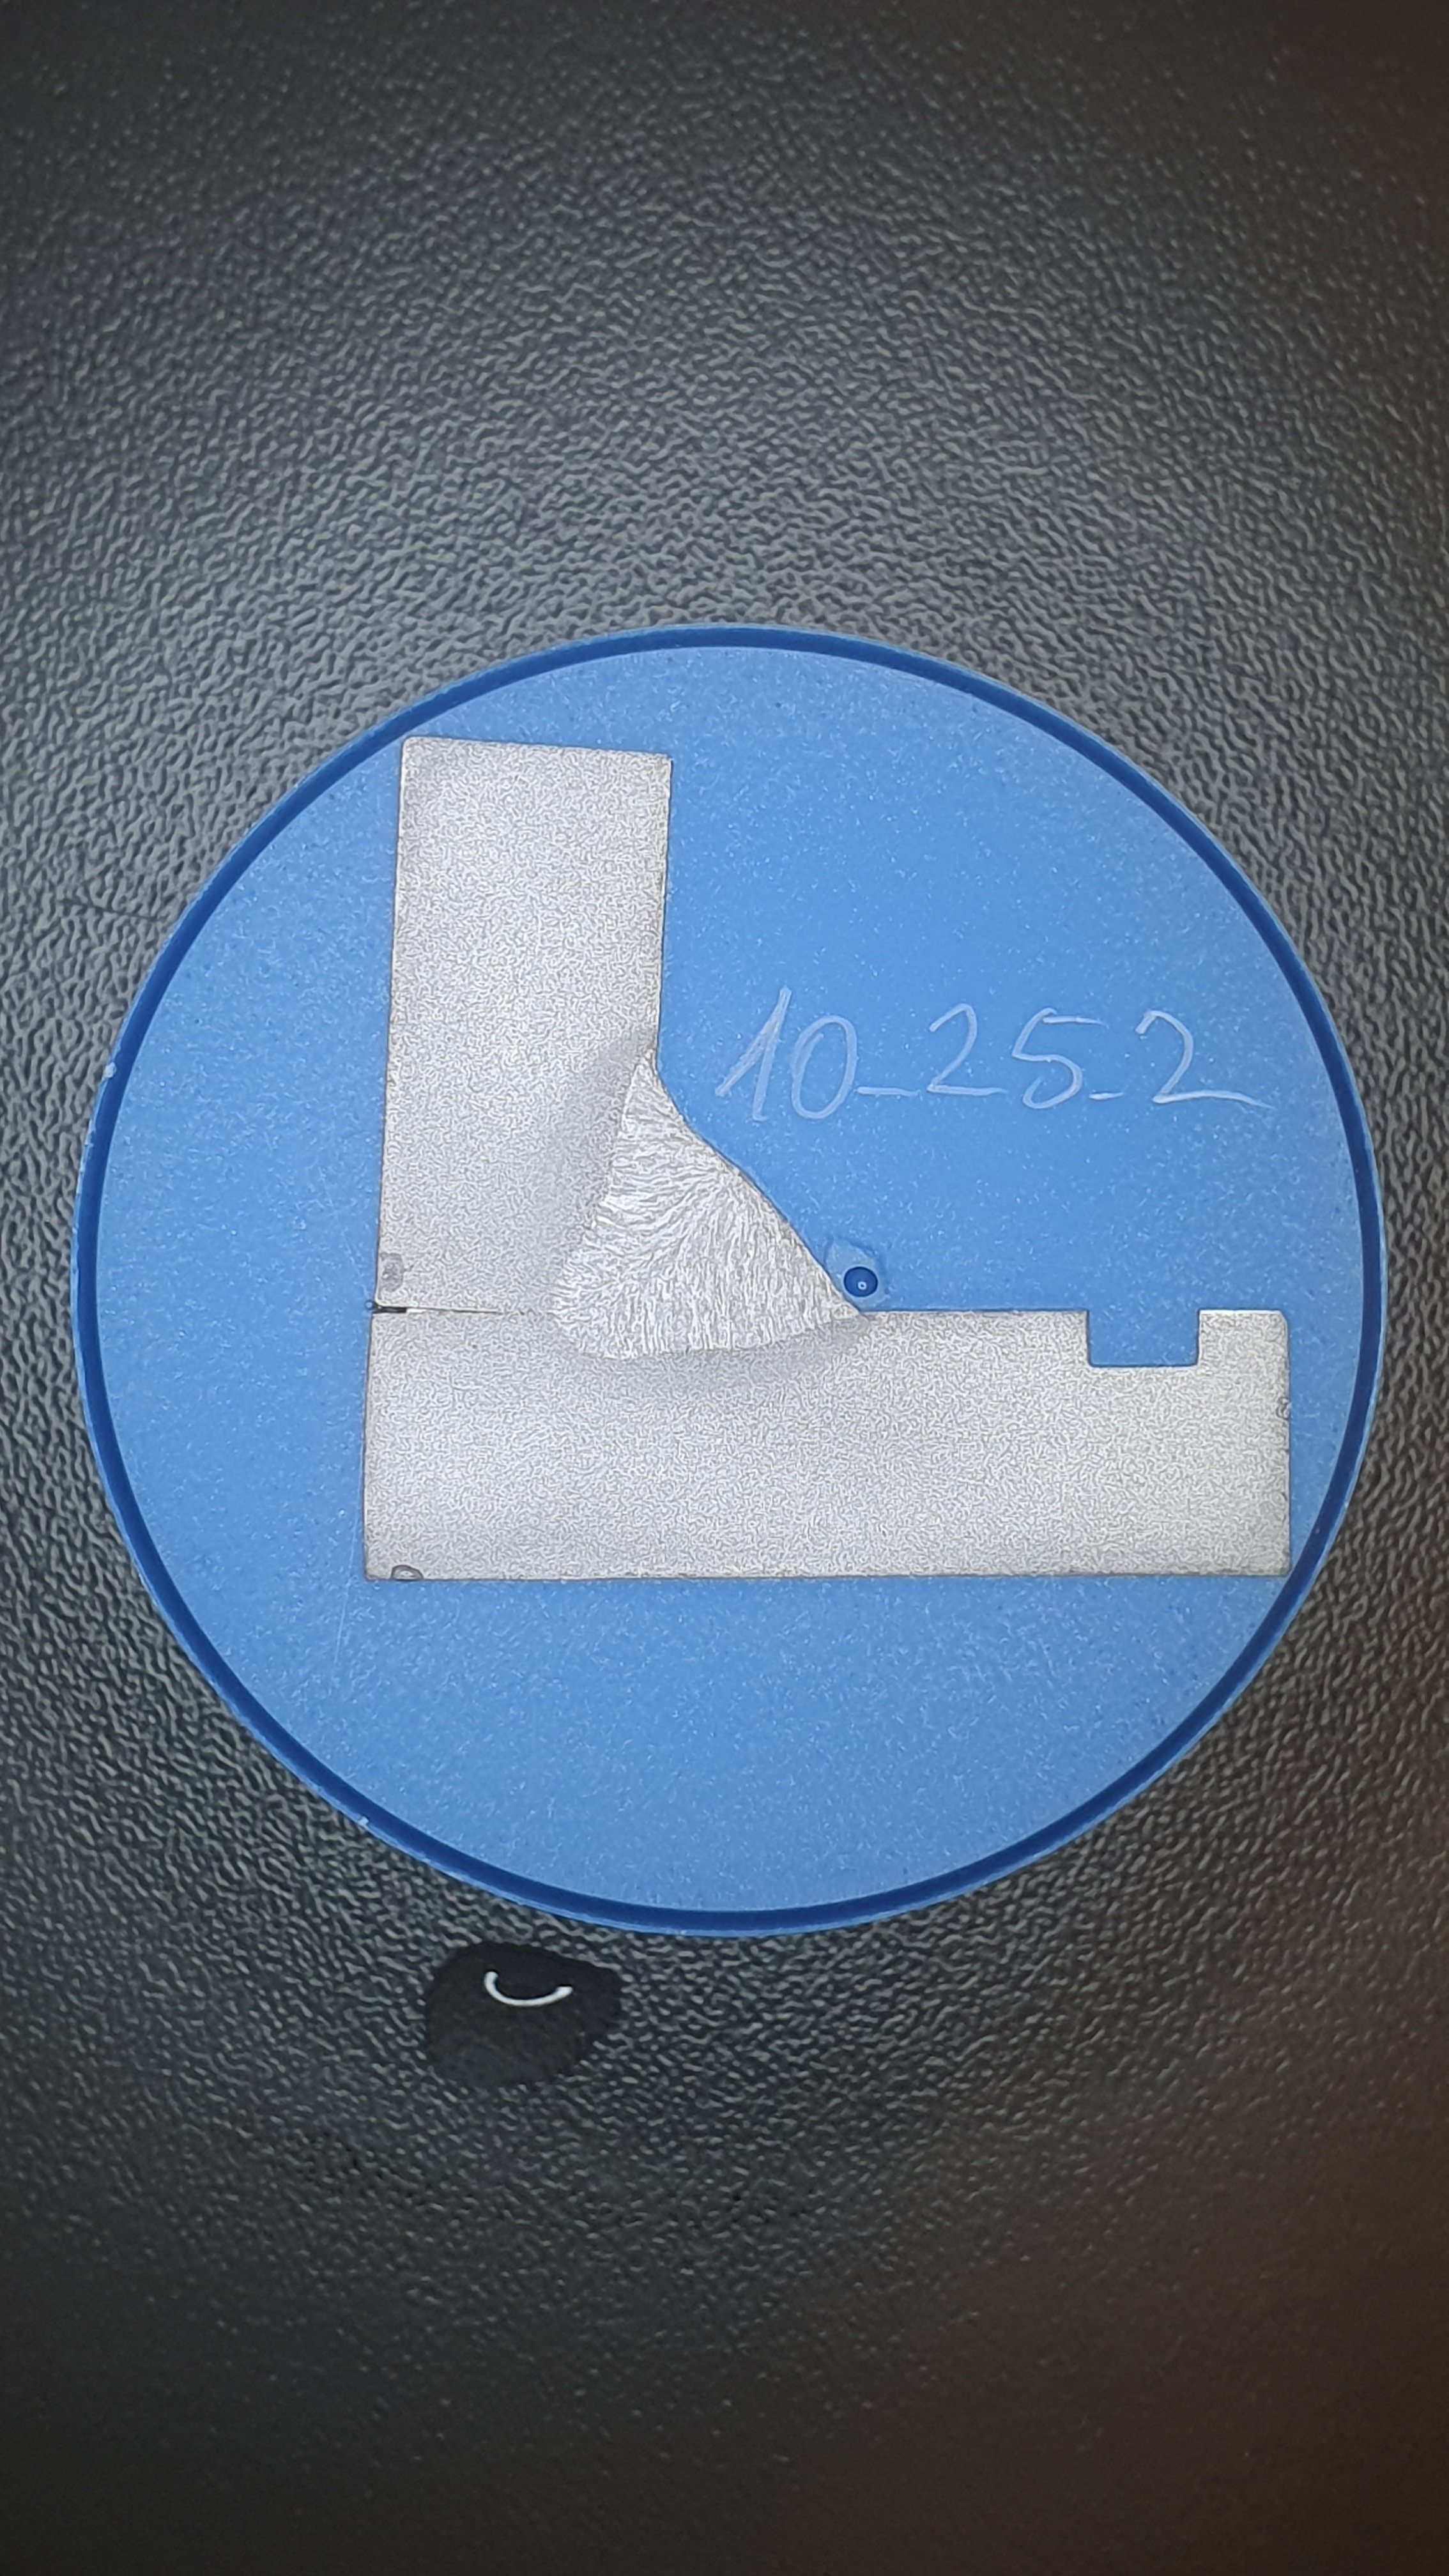Fusion: (548, 1063, 858, 1359)
Hintergrund: (96, 646, 1362, 1905)
Metall: (363, 736, 1292, 1580)
Nebenbereich: (494, 1021, 878, 1401)
